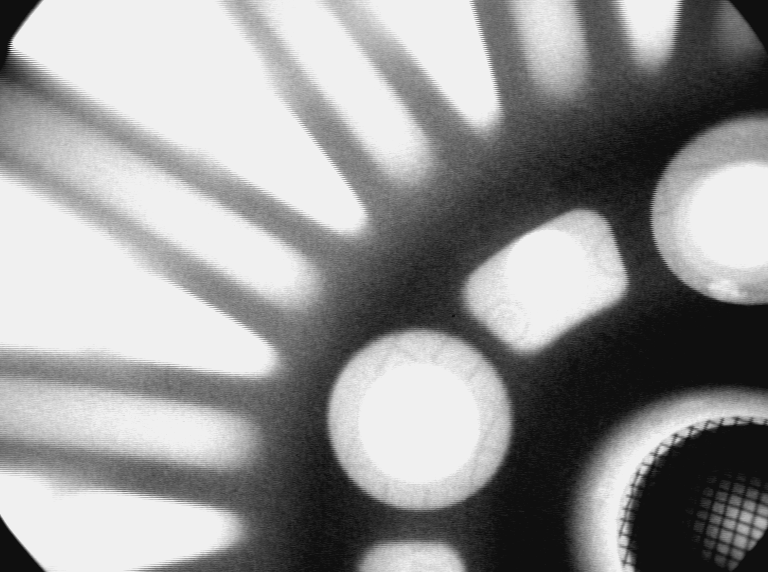defect: (704, 275, 753, 308)
